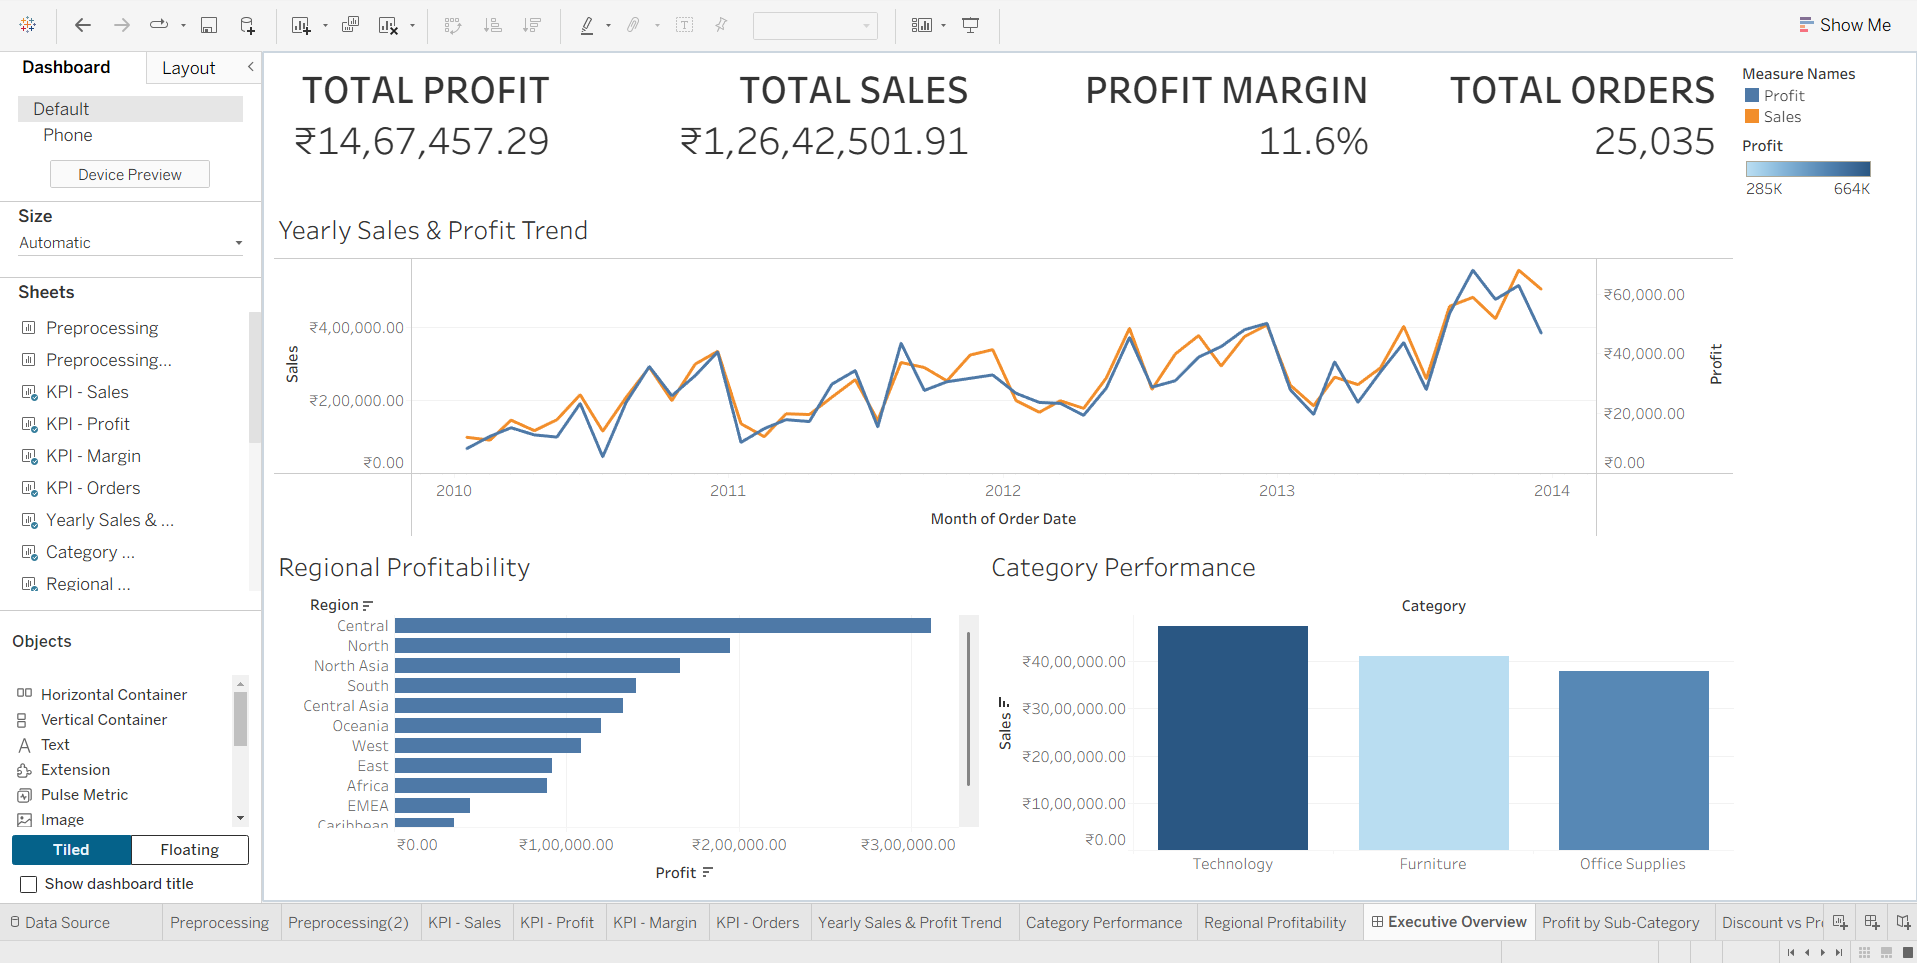

The dashboard page shown, as its layout file describes it:
{"tool":"tableau","page":{"name":"Executive Overview","canvas":[1000,1000],"units":"permille","ordinal":1},"visuals":[{"type":"worksheet","title":"KPI - Profit","mark":"Automatic","box":[4.8,9.4,245,170.4]},{"type":"worksheet","title":"KPI - Sales","mark":"Automatic","box":[249.8,9.4,273.4,170.4]},{"type":"worksheet","title":"KPI - Margin","mark":"Automatic","box":[523.2,9.4,221.5,170.4]},{"type":"worksheet","title":"KPI - Orders","mark":"Automatic","box":[744.7,9.4,182.3,170.4]},{"type":"legend","title":"Yearly Sales & Profit Trend","param":"[federated.1fxuiy31qgerss17g23c70bkvhhy].[:Measure Names]","box":[948.7,9.4,46.5,84.6]},{"type":"legend","title":"Category Performance","param":"[federated.1fxuiy31qgerss17g23c70bkvhhy].[sum:Profit:qk]","box":[948.7,94,46.5,85.8]},{"type":"worksheet","title":"Yearly Sales & Profit Trend","mark":"Automatic","rows":["Sales","Profit"],"cols":["Order Date"],"box":[4.8,179.8,943.9,396]},{"type":"worksheet","title":"Regional Profitability","mark":"Automatic","rows":["Region"],"cols":["Profit"],"box":[4.8,575.8,430.3,414.8]},{"type":"worksheet","title":"Category Performance","mark":"Automatic","rows":["Sales"],"cols":["Category"],"box":[435.1,575.8,513.6,414.8]}]}

Visuals, with their boxes on the dashboard's canvas, which has no fixed pixel size, in thousandths of its width and height (x1, y1, x2, y2). These are canvas units, not pixel positions in the 1917x963 screenshot, which may show the page scaled, cropped or inside an application window:
"KPI - Profit" worksheet: pyautogui.locateOnScreen(5, 9, 250, 180)
"KPI - Sales" worksheet: pyautogui.locateOnScreen(250, 9, 523, 180)
"KPI - Margin" worksheet: pyautogui.locateOnScreen(523, 9, 745, 180)
"KPI - Orders" worksheet: pyautogui.locateOnScreen(745, 9, 927, 180)
"Yearly Sales & Profit Trend" legend: pyautogui.locateOnScreen(949, 9, 995, 94)
"Category Performance" legend: pyautogui.locateOnScreen(949, 94, 995, 180)
"Yearly Sales & Profit Trend" worksheet: pyautogui.locateOnScreen(5, 180, 949, 576)
"Regional Profitability" worksheet: pyautogui.locateOnScreen(5, 576, 435, 991)
"Category Performance" worksheet: pyautogui.locateOnScreen(435, 576, 949, 991)
